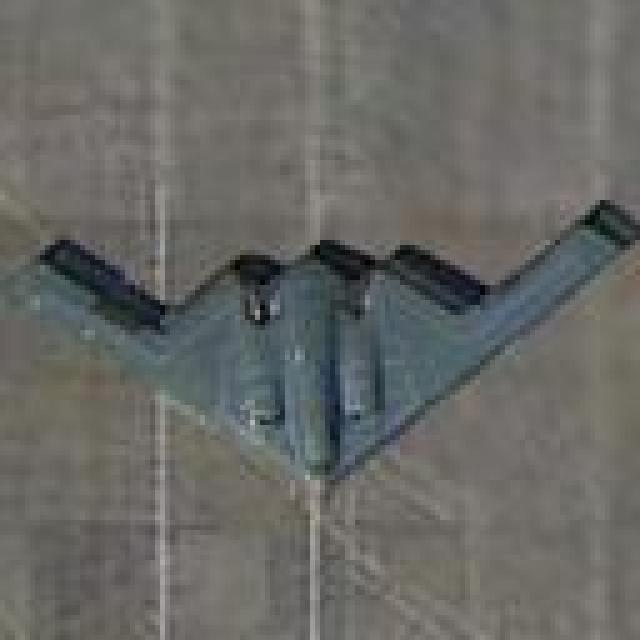B-2_TopDown: (0, 180, 635, 500)
